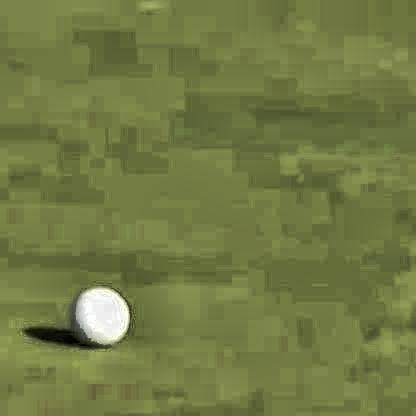golfball: (69, 279, 128, 344)
